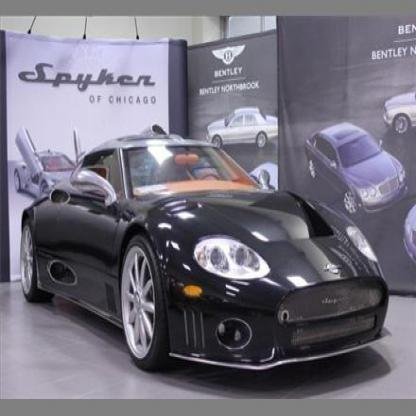Vehicle: (20, 122, 396, 390)
